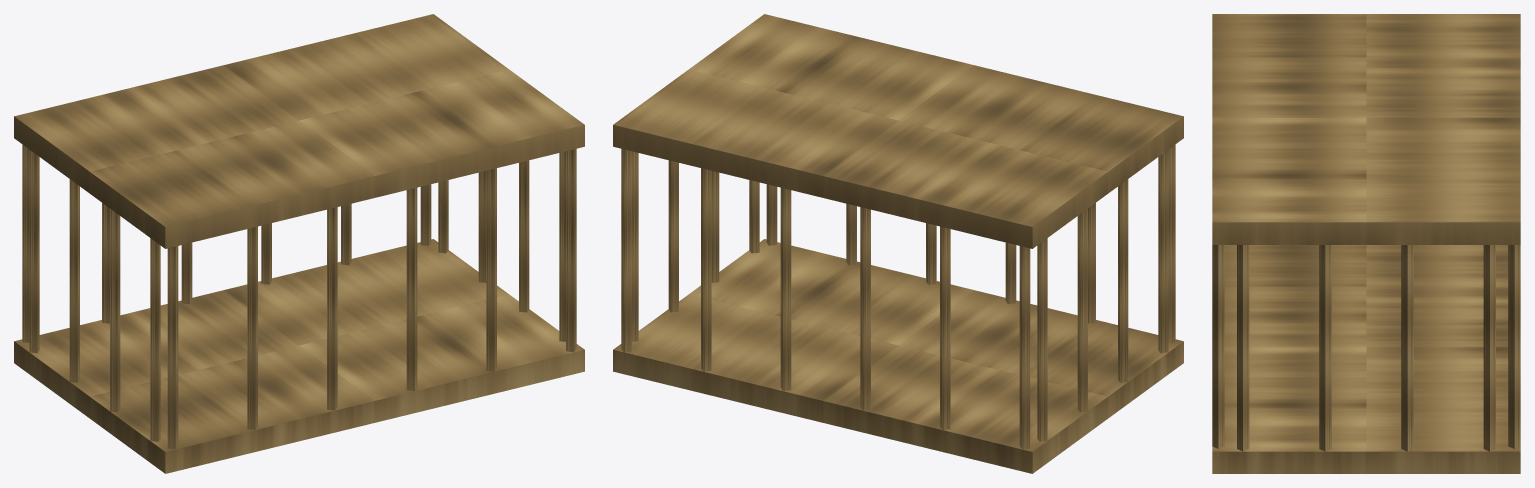
Rendered from Cage_Poultry_1_LOD1.gltf.
The picture shows the model from 3 angles, left to right: view 1: azimuth 30°, elevation 25°; view 2: azimuth 150°, elevation 25°; view 3: azimuth 270°, elevation 25°; orthographic projection.
Parts seen in each view (by area): view 1: Cage_Poultry_1_LOD1; view 2: Cage_Poultry_1_LOD1; view 3: Cage_Poultry_1_LOD1.
Part boxes in pixels (box(x1,y1,x2,y2)): Cage_Poultry_1_LOD1: box(14, 14, 584, 473); Cage_Poultry_1_LOD1: box(613, 14, 1183, 473); Cage_Poultry_1_LOD1: box(1212, 14, 1520, 473).
Size of the model in its own units: 0.8 by 0.45 by 0.5.
1 material, 1 textured.
